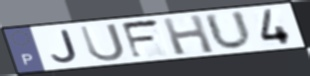4: (260, 7, 294, 47)
F: (119, 17, 163, 61)
H: (160, 13, 217, 57)
J: (49, 28, 80, 64)
U: (202, 9, 256, 52), (78, 22, 128, 63)
